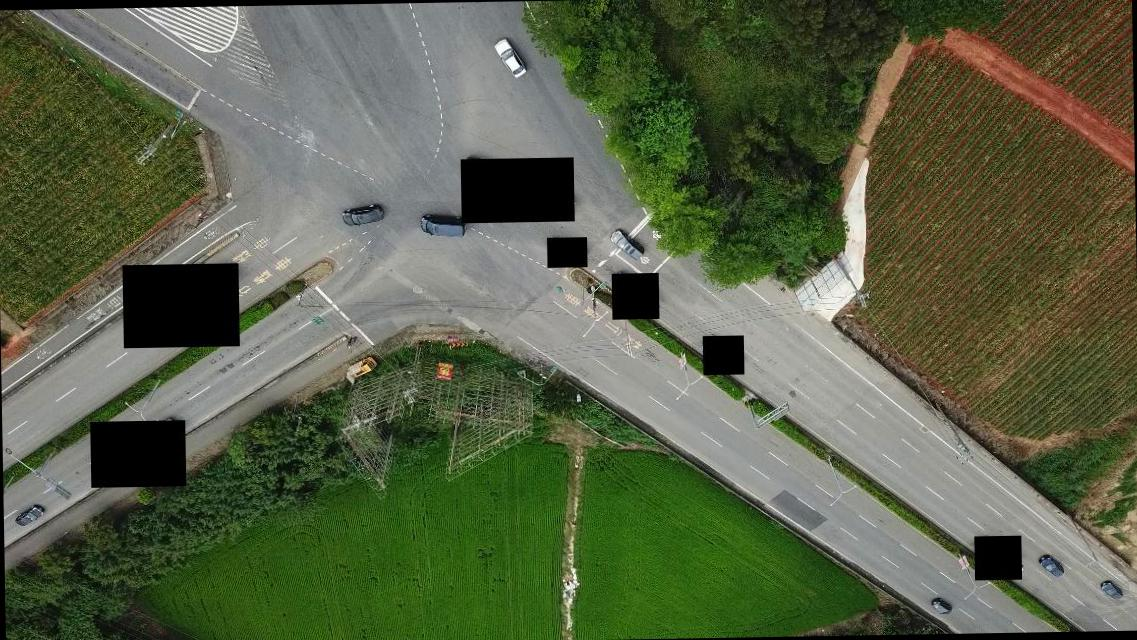vehicle: (496, 37, 526, 80), (420, 214, 468, 238), (610, 228, 644, 260), (342, 203, 383, 228), (13, 504, 44, 527), (1038, 552, 1064, 578), (1099, 578, 1125, 600), (351, 357, 378, 378), (931, 598, 952, 616)
